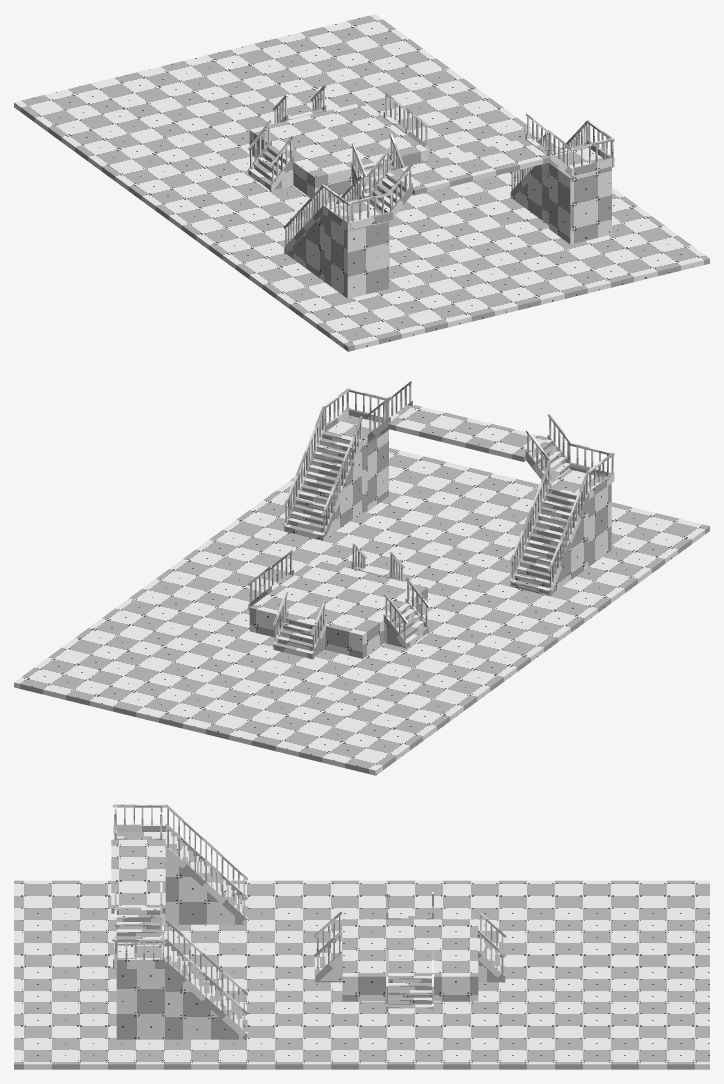
File: Level.fbx
The picture shows the model from 3 angles, top to bottom: view 1: azimuth 30°, elevation 25°; view 2: azimuth 150°, elevation 25°; view 3: azimuth 270°, elevation 25°; orthographic projection. The views are drawn at different scales.
Parts seen in each view (by area): view 1: Floor; view 2: Floor; view 3: Floor.
Part boxes in pixels (x1,y1,x2,y2): Floor: (14, 14, 709, 351); Floor: (14, 380, 709, 775); Floor: (14, 804, 709, 1069).
Size of what is drawn, in the model's own units: 1600 by 529 by 2560.
Materials: 1 (1 with a texture image).
